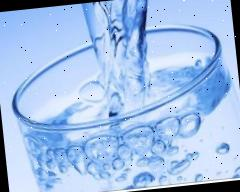glass: (6, 14, 240, 192)
